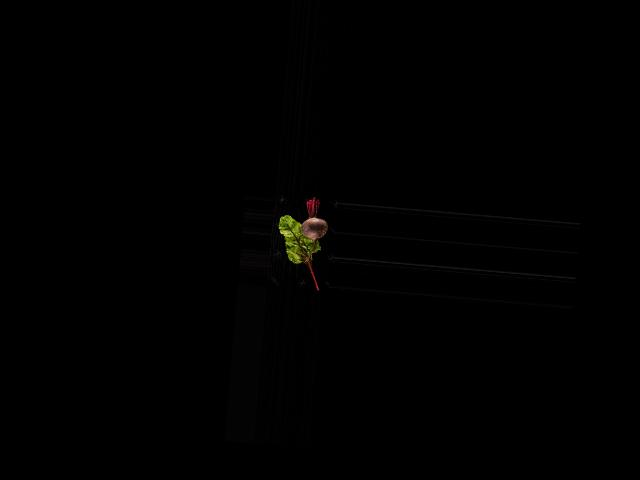beet: (298, 195, 330, 264)
